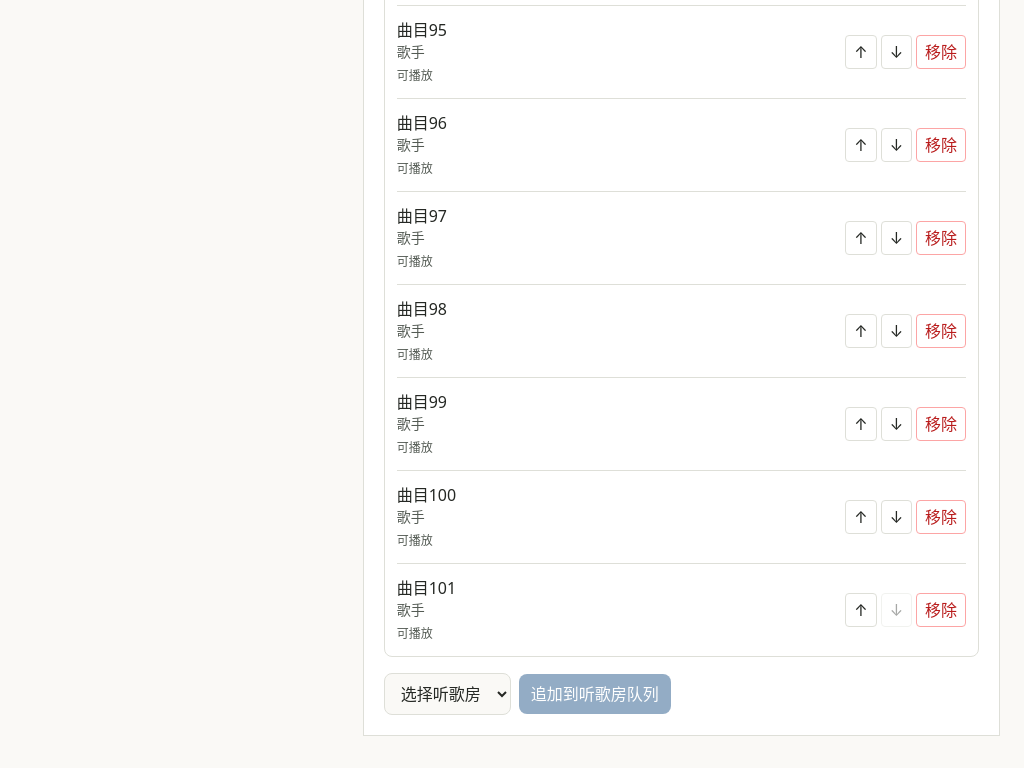
Test: personal music playlists › reports confirmed partial progress when a later queue batch fails
The image size is (1024, 768).
(page scrolled)
Select "蓝色听歌房" in the dropdown named "追加目标听歌房" at (447, 694), box [384,673,511,715]
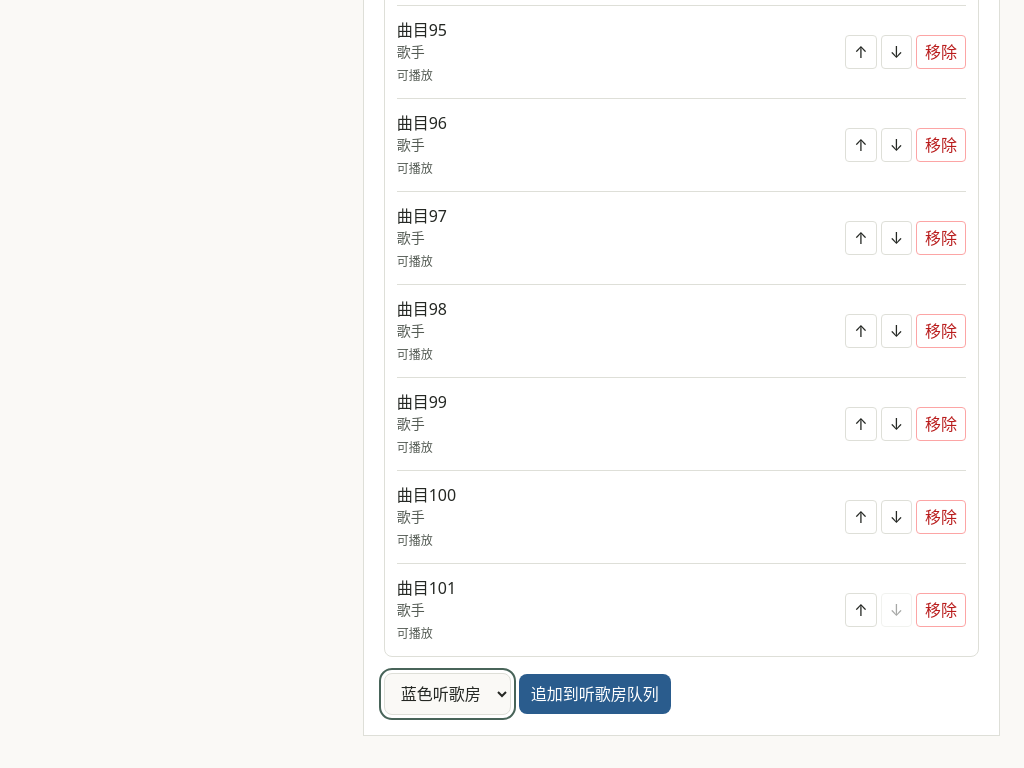
Click the button "追加到听歌房队列" at (595, 694), box [519,674,671,714]
(page scrolled)
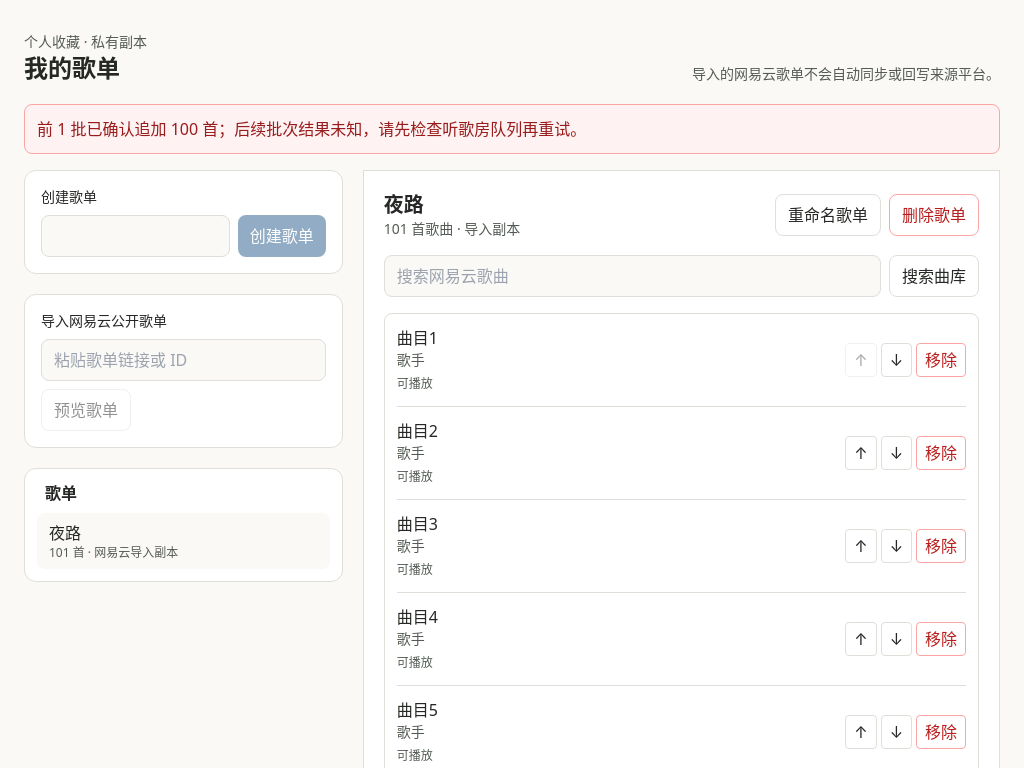
Expected: the message shows "前 1 批已确认追加 100 首", [37,118,586,140]
Expected: the message shows "后续批次结果未知", [37,118,586,140]
